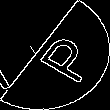P_NW: (18, 25, 92, 85)
